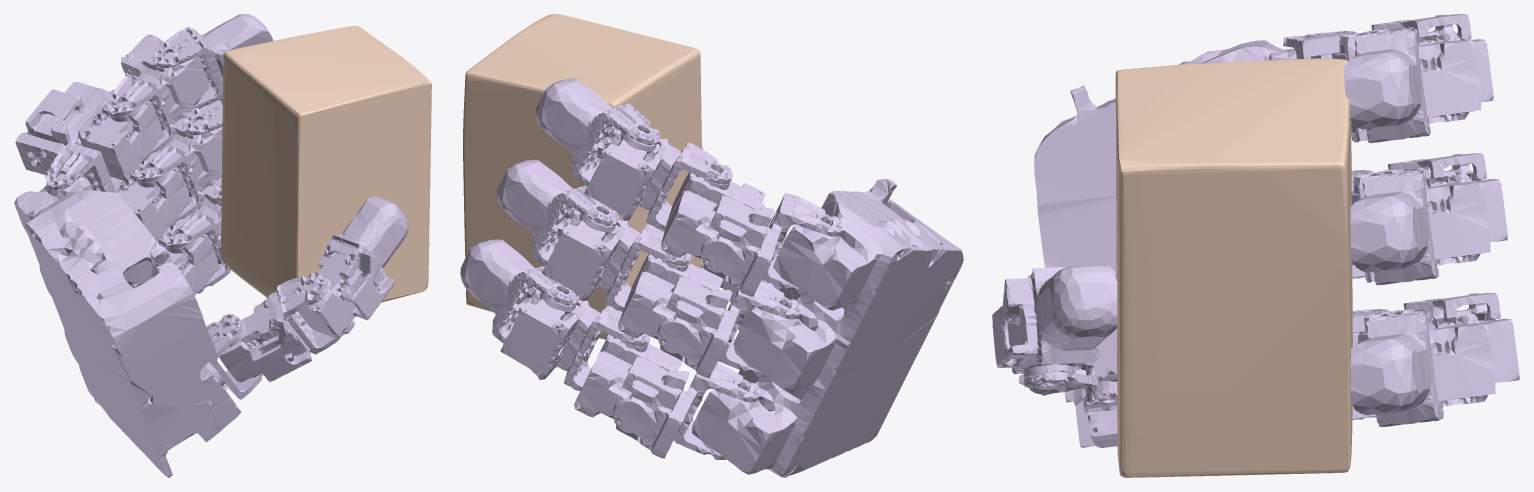
Rendered from a8800b875c1eea-closed.glb.
3 views of the same model, side by side, from view 1: azimuth 30°, elevation 25°; view 2: azimuth 150°, elevation 25°; view 3: azimuth 270°, elevation 25° (orthographic). The views are drawn at different scales.
Parts seen in each view (by area): view 1: LEAP_hand, world; view 2: LEAP_hand, world; view 3: world, LEAP_hand.
Boxes of the visible parts, left/top/right/bottom form: LEAP_hand: left=14, top=14, right=408, bottom=477; world: left=220, top=25, right=431, bottom=302; LEAP_hand: left=460, top=78, right=963, bottom=477; world: left=463, top=14, right=701, bottom=339; world: left=1115, top=58, right=1352, bottom=477; LEAP_hand: left=992, top=14, right=1519, bottom=447.
Bounding box in the file's own units: 0.2028 × 0.1867 × 0.1708.
